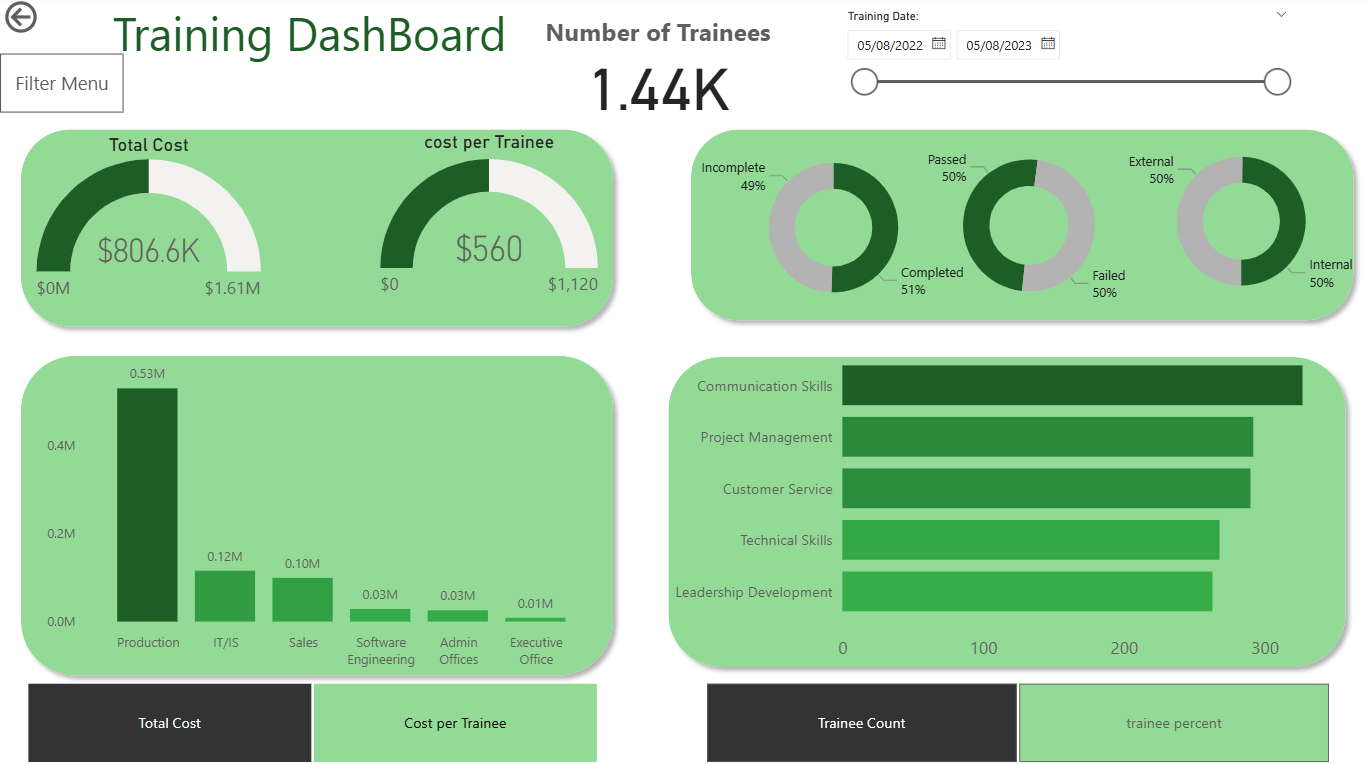

The dashboard page shown, as its layout file describes it:
{"tool":"powerbi","page":{"name":"Training data","canvas":[1280,720],"ordinal":1},"visuals":[{"type":"textbox","box":[11,0,393.7,68.8],"z":0},{"type":"cardVisual","fields":{"Data":["CountNonNull(training_and_development.employee_id)"]},"box":[429.5,0,459.8,158.3],"z":1000},{"type":"clusteredBarChart","fields":{"Category":["training_and_development.training_program_name"],"Y":["CountNonNull(training_and_development.employee_id)"]},"box":[0,359.6,658.7,361.3],"z":2000},{"type":"gauge","fields":{"Y":["Sum(training_and_development.training_cost)"]},"box":[0,157.9,329.3,183.1],"z":3000},{"type":"gauge","fields":{"Y":["Median(training_and_development.training_cost)"]},"box":[310.8,157.9,329.3,183.1],"z":3001},{"type":"donutChart","fields":{"Category":["training_and_development.training_outcome"],"Y":["CountNonNull(training_and_development.employee_id)"]},"box":[631.8,157.9,235.2,186.5],"z":3002},{"type":"donutChart","fields":{"Category":["training_and_development.training_outcome"],"Y":["CountNonNull(training_and_development.employee_id)"]},"box":[867,157.9,221.8,203.3],"z":3003},{"type":"donutChart","fields":{"Y":["CountNonNull(active_employees.empid)"]},"box":[737.6,359.6,351.2,253.7],"z":3004}]}

Visuals, with their boxes in screenshot pixels (x1, y1, x2, y2), scaled from the page's 1280x720 canvas onto the 1369x764 screenshot:
textbox: 12 0 433 73
cardVisual - CountNonNull(training_and_development.employee_id): 459 0 951 168
clusteredBarChart - training_and_development.training_program_name x CountNonNull(training_and_development.employee_id): 0 382 705 763
gauge - Sum(training_and_development.training_cost): 0 168 352 362
gauge - Median(training_and_development.training_cost): 332 168 685 362
donutChart - training_and_development.training_outcome x CountNonNull(training_and_development.employee_id): 676 168 927 365
donutChart - training_and_development.training_outcome x CountNonNull(training_and_development.employee_id): 927 168 1165 383
donutChart - CountNonNull(active_employees.empid): 789 382 1165 651
